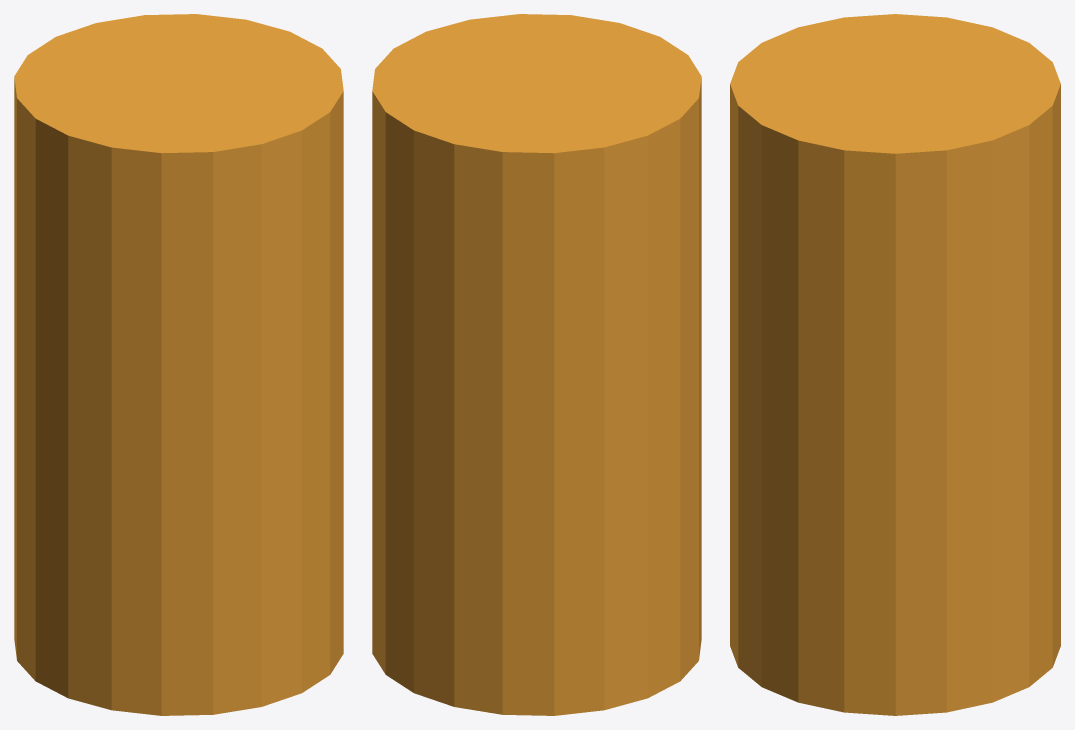
Rendered from WPN_Spinal_Bouche.obj.
The picture shows the model from 3 angles, left to right: view 1: azimuth 30°, elevation 25°; view 2: azimuth 150°, elevation 25°; view 3: azimuth 270°, elevation 25°; orthographic projection.
Bounding box in the file's own units: 640 × 1200 × 640.
